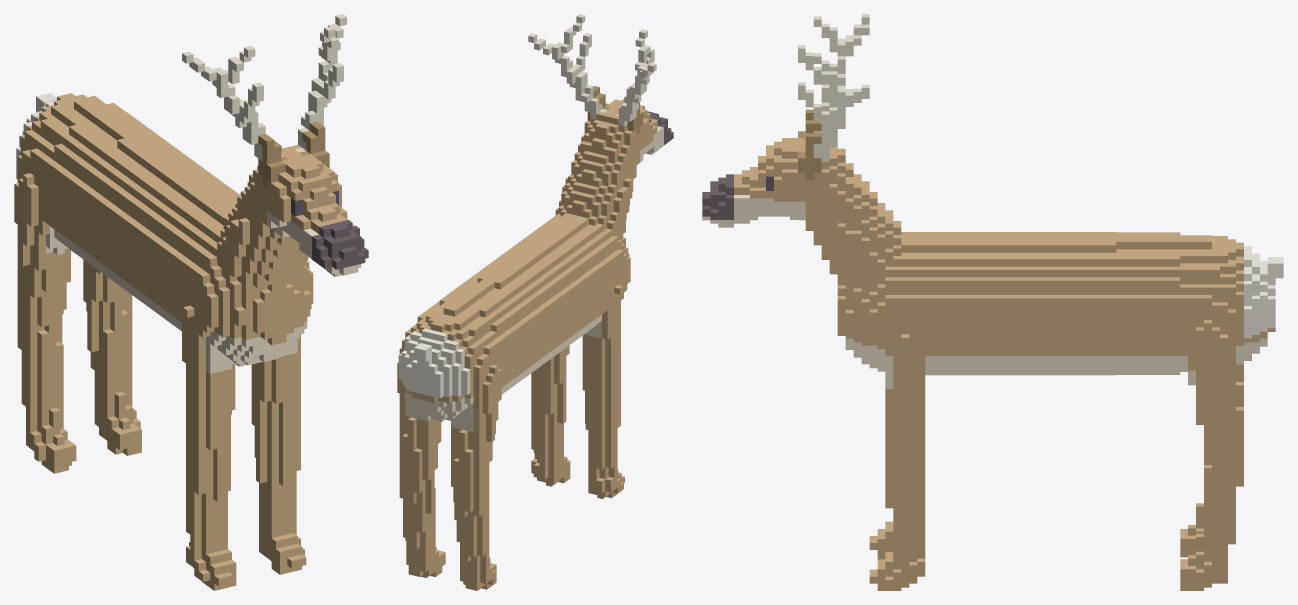
File: deer.glb
3 renders of one model, left to right at view 1: azimuth 30°, elevation 25°; view 2: azimuth 150°, elevation 25°; view 3: azimuth 270°, elevation 25°, orthographic. The views are drawn at different scales.
Visible parts, largest first — view 1: item; view 2: item; view 3: item.
Part boxes in pixels (x1,y1,x2,y2): item: [14, 14, 368, 590]; item: [397, 14, 673, 590]; item: [702, 14, 1283, 590].
Size of the model in its own units: 22 by 74 by 73.
